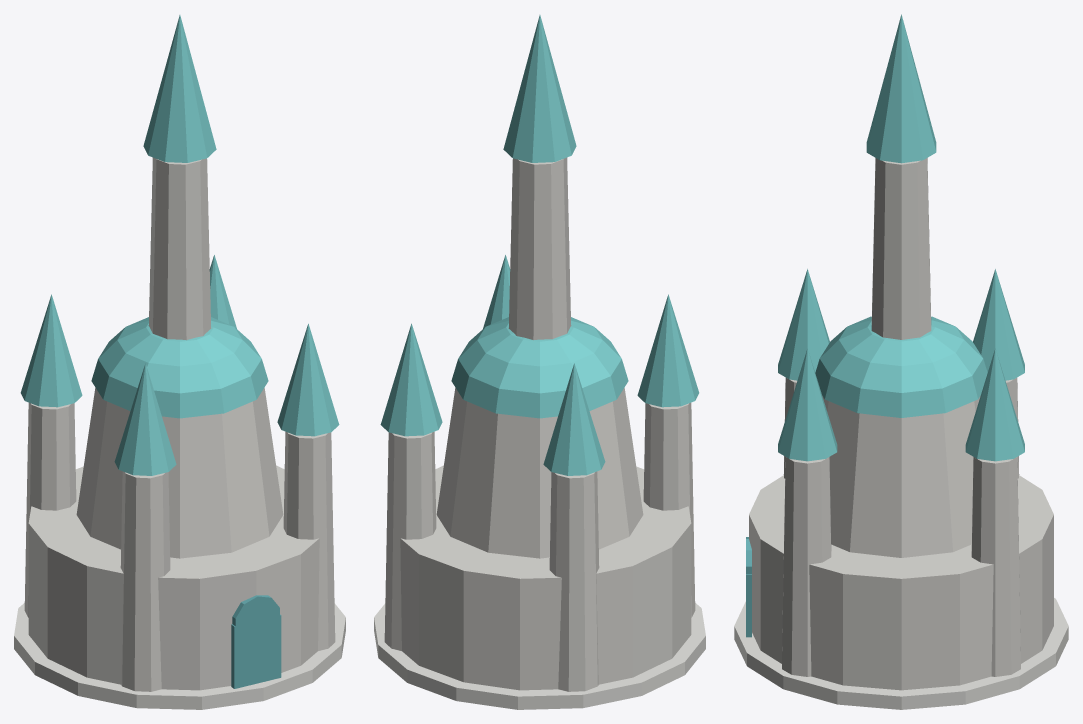
The picture shows the model from 3 angles, left to right: view 1: azimuth 30°, elevation 25°; view 2: azimuth 150°, elevation 25°; view 3: azimuth 270°, elevation 25°; orthographic projection.
Parts seen in each view (by area): view 1: body; view 2: body; view 3: body.
Part boxes in pixels (box(x1,y1,x2,y2)): body: box(14, 15, 345, 709); body: box(374, 15, 705, 709); body: box(734, 14, 1068, 709).
Size of the model in its own units: 13.6 by 28.05 by 13.6.
